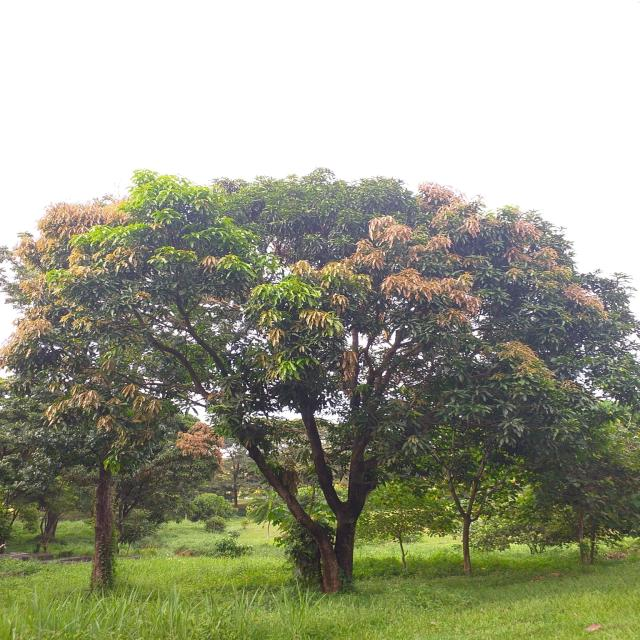Mango-Tree: (14, 167, 629, 538)
